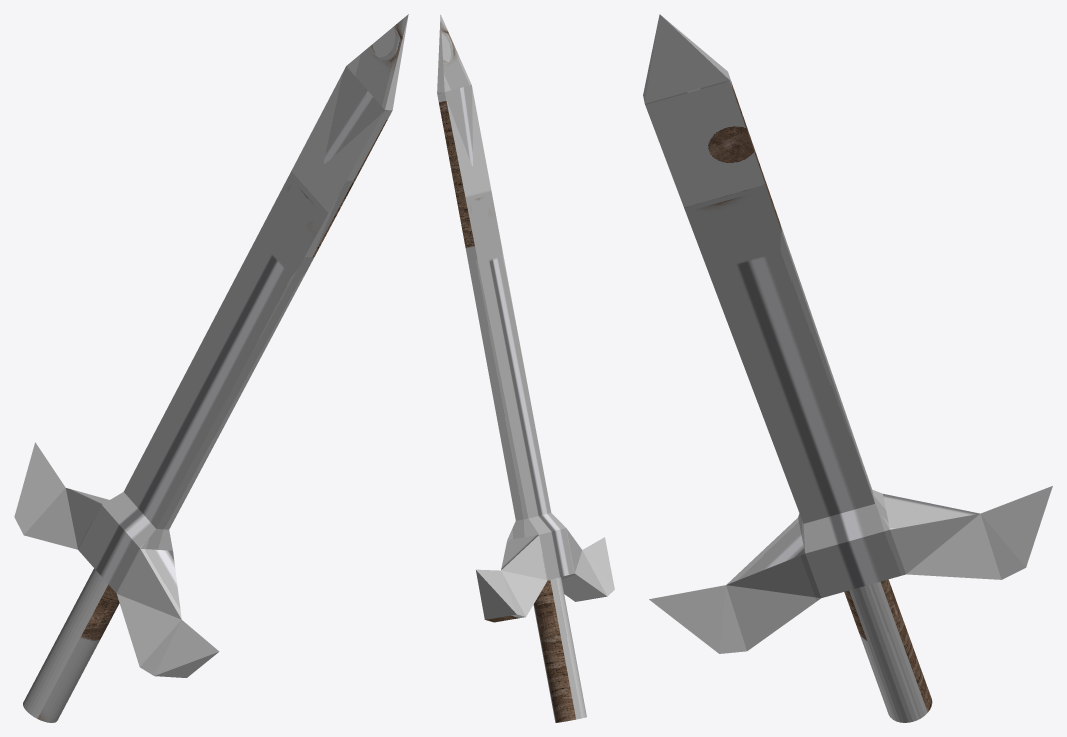
Rendered from Protagonista14.obj.
The picture shows the model from 3 angles, left to right: view 1: azimuth 30°, elevation 25°; view 2: azimuth 150°, elevation 25°; view 3: azimuth 270°, elevation 25°; orthographic projection. The views are drawn at different scales.
Visible parts, largest first — view 1: Cube; view 2: Cube; view 3: Cube.
Boxes of the visible parts, box(x1,y1,x2,y2) form: Cube: box(14, 14, 408, 722); Cube: box(437, 14, 614, 722); Cube: box(643, 14, 1052, 722).
Size of the model in its own units: 0.6492 by 1.6 by 0.6961.
1 material, 1 textured.
